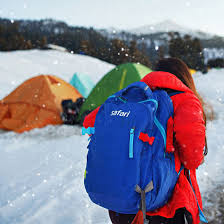backpack: (82, 81, 185, 213)
